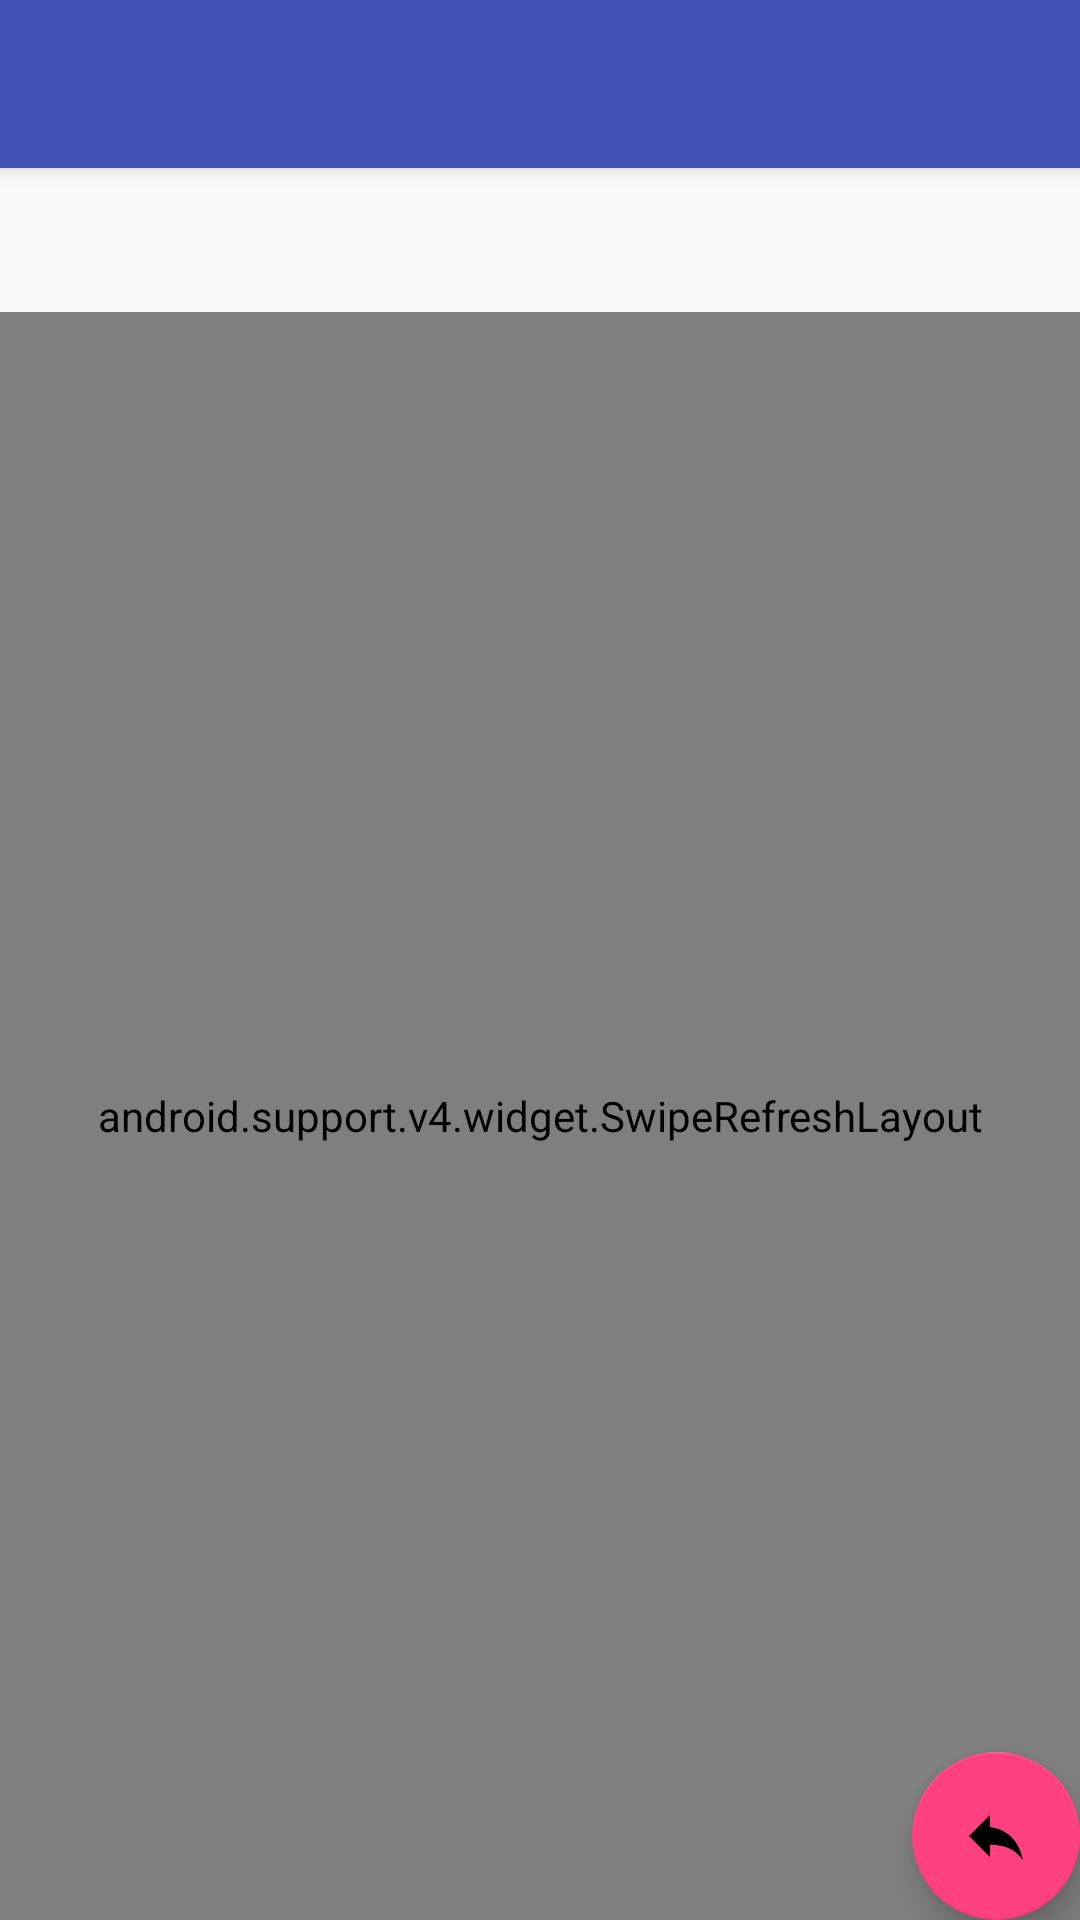

Named icons in this screenshot (1080×1920) and their centers, (x=x, y=y):
reply: (x=996, y=1836)
